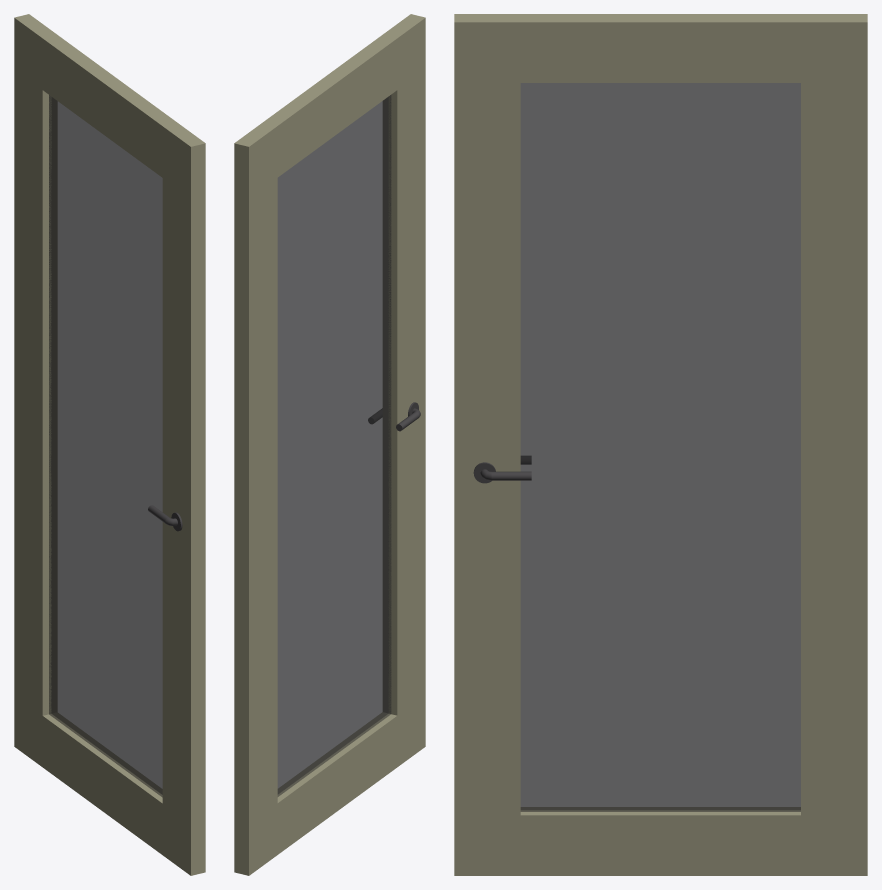
Rendered from door1-plate.FBX.
3 renders of one model, left to right at view 1: azimuth 30°, elevation 25°; view 2: azimuth 150°, elevation 25°; view 3: azimuth 270°, elevation 25°, orthographic. The views are drawn at different scales.
Parts seen in each view (by area): view 1: 48:2:5; view 2: 48:2:5; view 3: 48:2:5.
Boxes of the visible parts, x1,y1,x2,y2 form: 48:2:5: (14,14,205,875); 48:2:5: (234,14,425,875); 48:2:5: (454,14,867,875).
Size of the model in its own units: 4.13 by 83.27 by 36.57.
